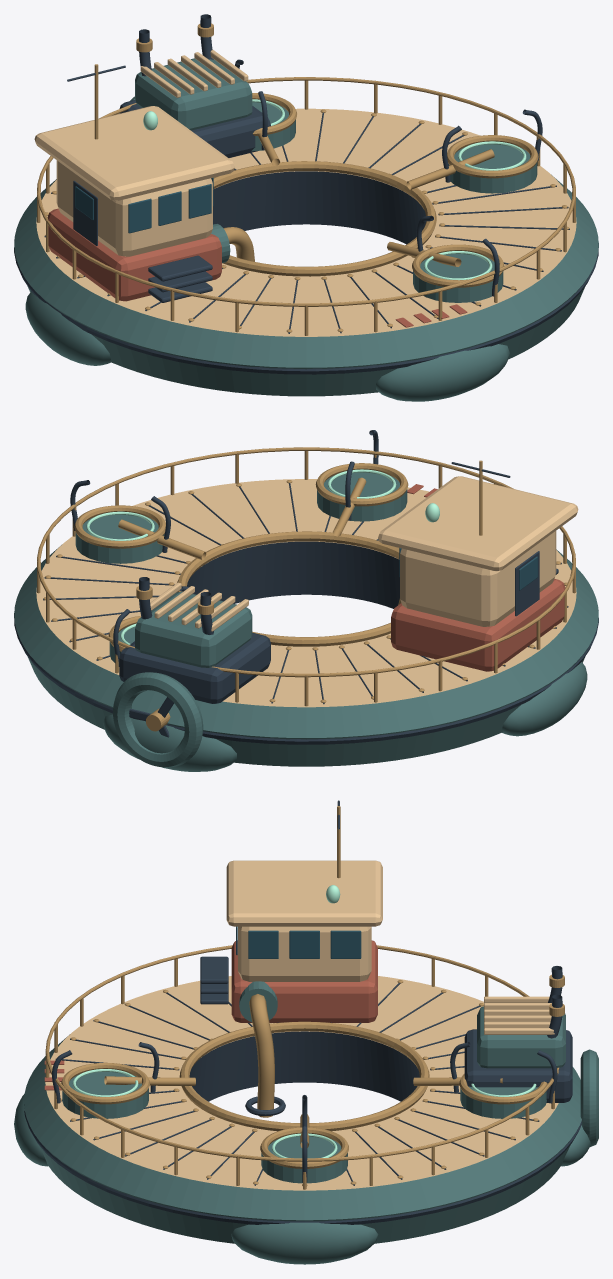
The model's file is harvester.glb.
The picture shows the model from 3 angles, top to bottom: view 1: azimuth 30°, elevation 25°; view 2: azimuth 150°, elevation 25°; view 3: azimuth 270°, elevation 25°; orthographic projection. The views are drawn at different scales.
Parts seen in each view (by area): view 1: Annular_working_deck, Wheelhouse_roof, Wheelhouse_body, Wheelhouse_lower, Float_sponson.003, Engine_block, Inside_safety_lip, Perimeter_lifeline, Outer_rubbing_strake, Float_sponson.002, Grav_cradle_1, Grav_cradle_0 (+15 smaller); view 2: Annular_working_deck, Wheelhouse_roof, Wheelhouse_body, Wheelhouse_lower, Engine_block, Perimeter_lifeline, Engine_cradle, Engine_duct, Inside_safety_lip, Outer_rubbing_strake, Float_sponson.002, Float_sponson.001 (+9 smaller); view 3: Annular_working_deck, Wheelhouse_roof, Wheelhouse_lower, Inside_safety_lip, Float_sponson, Wheelhouse_body, Perimeter_lifeline, Engine_block, Engine_cradle, Outer_rubbing_strake, Grav_cradle_1, Grav_cradle_0 (+13 smaller).
Part boxes in pixels (bbox=[...]): Annular_working_deck: bbox=[14, 108, 598, 396]; Wheelhouse_roof: bbox=[34, 106, 234, 200]; Wheelhouse_body: bbox=[56, 160, 212, 256]; Wheelhouse_lower: bbox=[47, 208, 221, 301]; Float_sponson.003: bbox=[376, 344, 509, 401]; Engine_block: bbox=[135, 58, 252, 130]; Inside_safety_lip: bbox=[213, 161, 436, 276]; Perimeter_lifeline: bbox=[37, 77, 575, 306]; Outer_rubbing_strake: bbox=[14, 239, 598, 374]; Float_sponson.002: bbox=[25, 291, 110, 365]; Grav_cradle_1: bbox=[448, 144, 537, 193]; Grav_cradle_0: bbox=[413, 254, 503, 302]; Annular_working_deck: bbox=[14, 479, 598, 766]; Wheelhouse_roof: bbox=[378, 476, 578, 571]; Wheelhouse_body: bbox=[400, 531, 556, 626]; Wheelhouse_lower: bbox=[391, 579, 565, 671]; Engine_block: bbox=[135, 591, 252, 667]; Perimeter_lifeline: bbox=[37, 447, 575, 677]; Engine_cradle: bbox=[119, 632, 270, 703]; Engine_duct: bbox=[113, 672, 203, 767]; Inside_safety_lip: bbox=[177, 531, 399, 646]; Outer_rubbing_strake: bbox=[14, 610, 598, 744]; Float_sponson.002: bbox=[502, 662, 587, 736]; Float_sponson.001: bbox=[103, 714, 236, 771]; Annular_working_deck: bbox=[24, 976, 581, 1243]; Wheelhouse_roof: bbox=[226, 860, 382, 926]; Wheelhouse_lower: bbox=[231, 940, 377, 1022]; Inside_safety_lip: bbox=[179, 1021, 429, 1131]; Float_sponson: bbox=[231, 1222, 378, 1264]; Wheelhouse_body: bbox=[238, 926, 371, 981]; Perimeter_lifeline: bbox=[45, 945, 558, 1161]; Engine_block: bbox=[477, 1006, 565, 1068]; Engine_cradle: bbox=[464, 1029, 572, 1102]; Outer_rubbing_strake: bbox=[24, 1104, 581, 1224]; Grav_cradle_1: bbox=[261, 1136, 347, 1183]; Grav_cradle_0: bbox=[62, 1072, 148, 1118].
Bounding box in the file's own units: 8.18 × 3.97 × 8.23.
